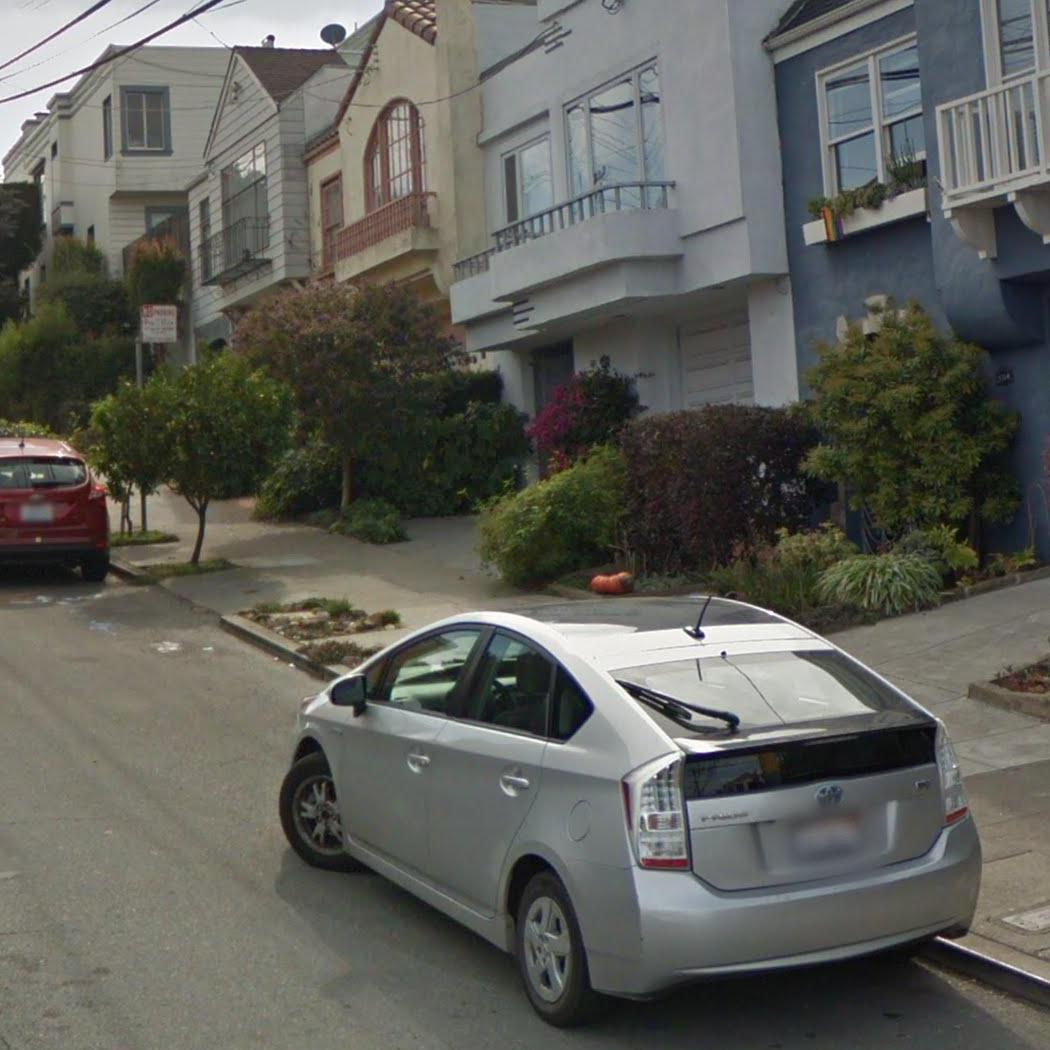No Parking: (137, 301, 182, 346)
